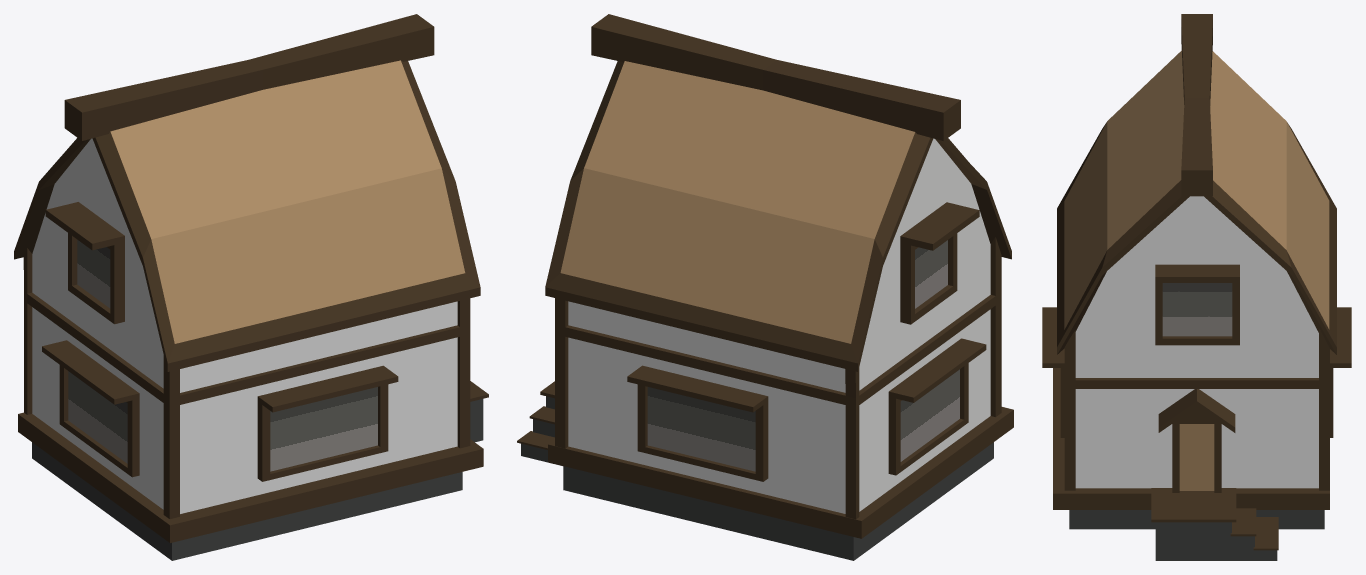
File: House3.fbx
3 renders of one model, left to right at view 1: azimuth 30°, elevation 25°; view 2: azimuth 150°, elevation 25°; view 3: azimuth 270°, elevation 25°, orthographic. The views are drawn at different scales.
Parts seen in each view (by area): view 1: House_Level_0; view 2: House_Level_0; view 3: House_Level_0.
Part boxes in pixels (left/top/right/bottom): House_Level_0: left=14, top=14, right=488, bottom=560; House_Level_0: left=517, top=14, right=1013, bottom=560; House_Level_0: left=1042, top=14, right=1351, bottom=560.
Bounding box in the file's own units: 943 × 940 × 704.
